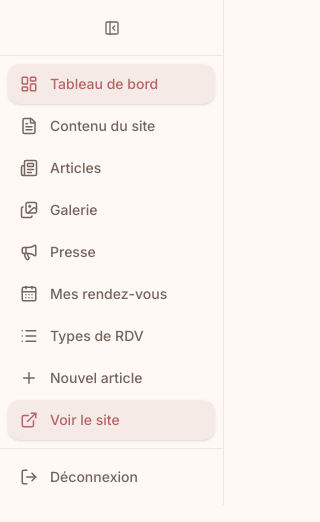
Test: AdminSidebar › persists the collapsed state and hides labels
Click the button named "Réduire". click: (112, 28)
box: left=98, top=14, right=126, bottom=42
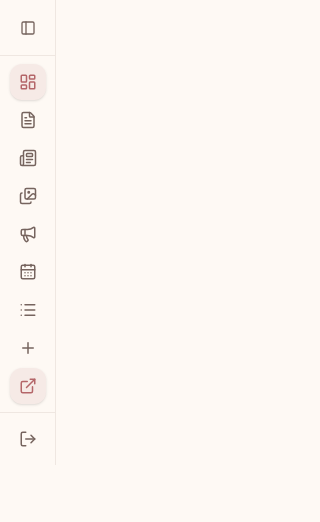
Check: the button named "Développer" is shown, box left=14, top=14, right=42, bottom=42
Check: the text "Déconnexion" is gone
